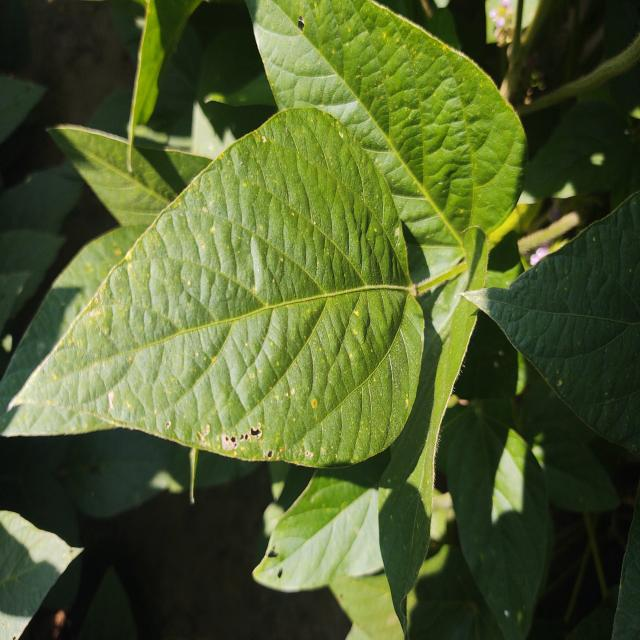Soybean: (0, 0, 640, 640)
downey_mildew: (369, 18, 428, 156), (332, 308, 388, 401), (317, 301, 382, 370), (202, 423, 276, 461), (197, 216, 235, 256), (303, 386, 330, 428), (240, 425, 265, 443), (107, 391, 115, 411), (200, 423, 210, 437), (305, 450, 314, 458), (311, 399, 318, 409), (124, 251, 131, 260), (353, 309, 360, 317), (201, 205, 208, 213), (165, 421, 171, 430), (248, 372, 255, 379), (211, 355, 217, 363), (261, 135, 267, 143), (338, 131, 344, 139), (52, 374, 58, 381), (352, 328, 358, 335), (557, 379, 563, 386), (210, 226, 215, 233), (290, 388, 295, 395), (382, 32, 387, 38), (187, 280, 191, 286), (605, 391, 609, 397), (592, 236, 596, 242)
